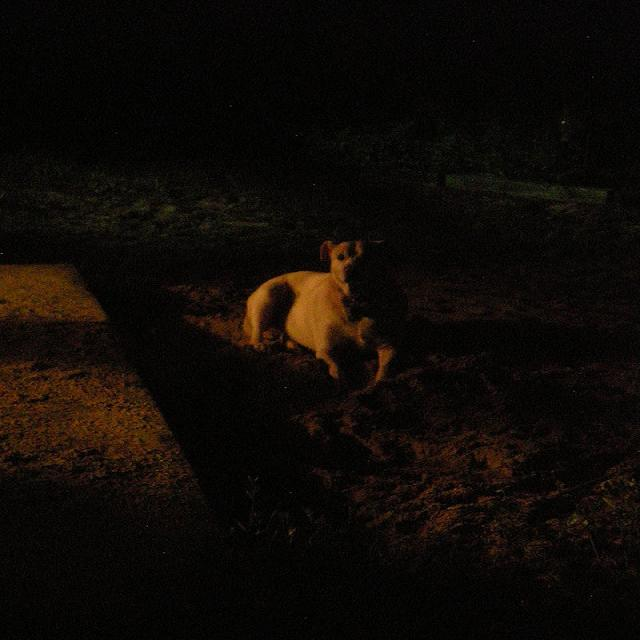Dog: (178, 192, 482, 384)
